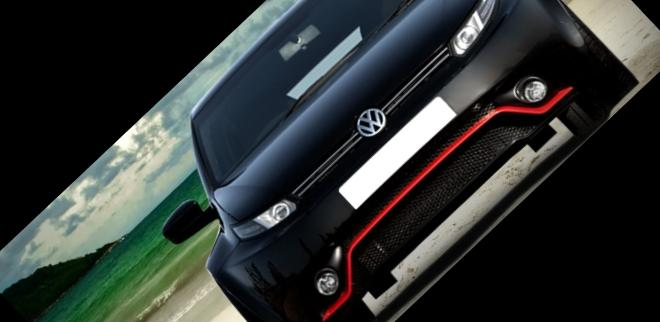plate: (334, 89, 465, 214)
